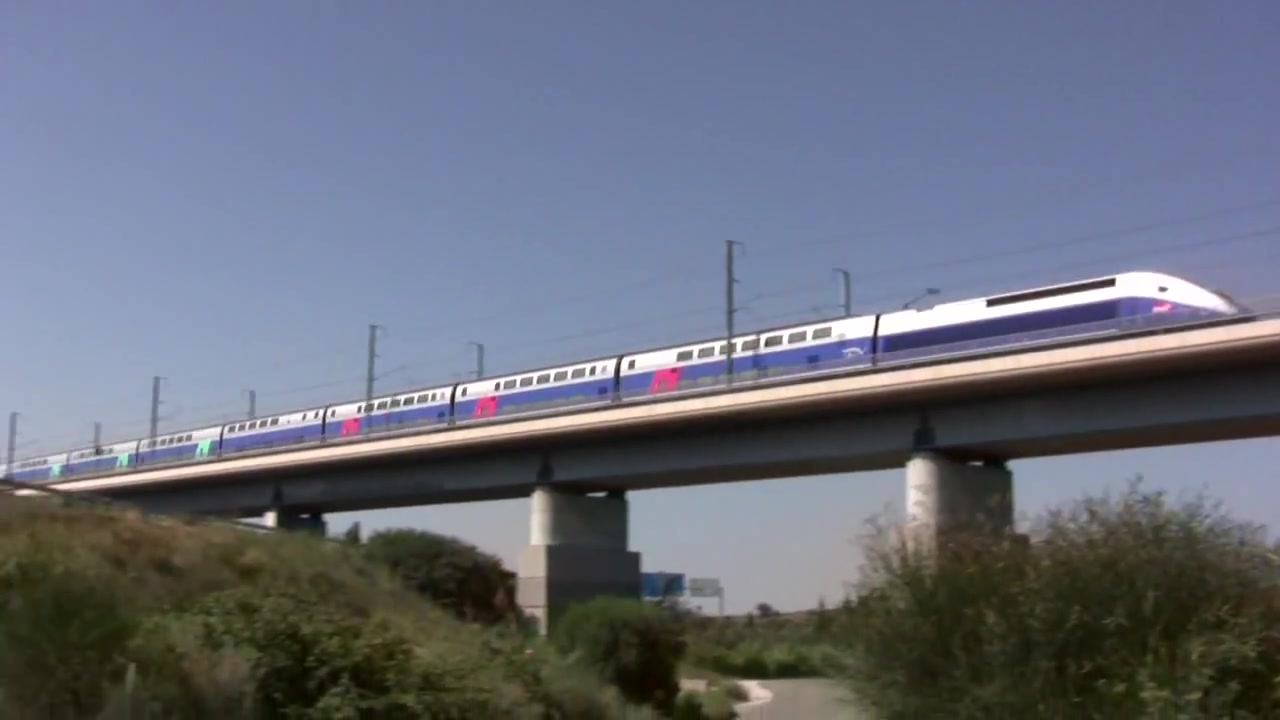train: (1, 268, 1250, 491)
